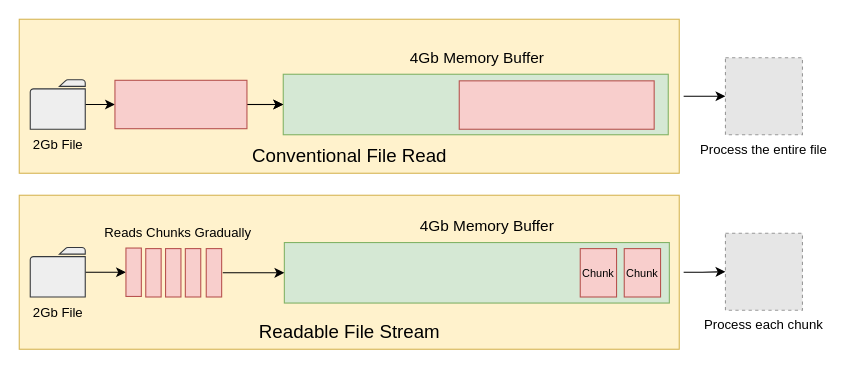
Some shapes in this 848 by 383 pixel diagram are drawn without their labels. Grey dashed boxes stand in for pictures. Each missing label, with the box of its shape:
Entire File Loaded In Memory: (458, 80, 654, 129)
Reads Entire File At Once: (114, 79, 247, 129)
